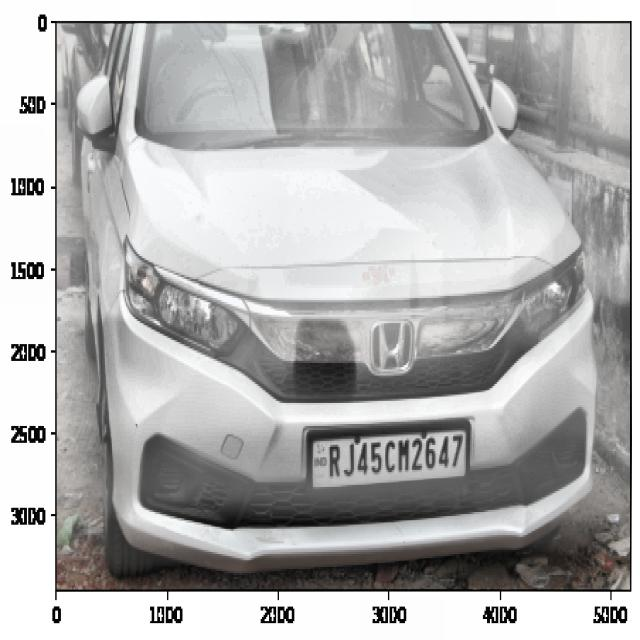license_plate: (322, 428, 467, 478)
